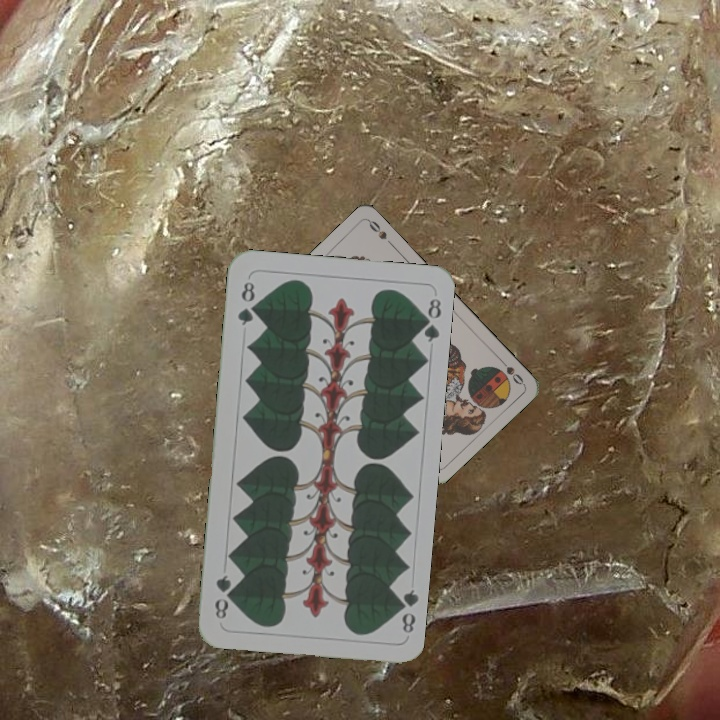G8: (391, 585, 420, 635), (233, 277, 258, 328)
SO: (495, 354, 526, 388)
